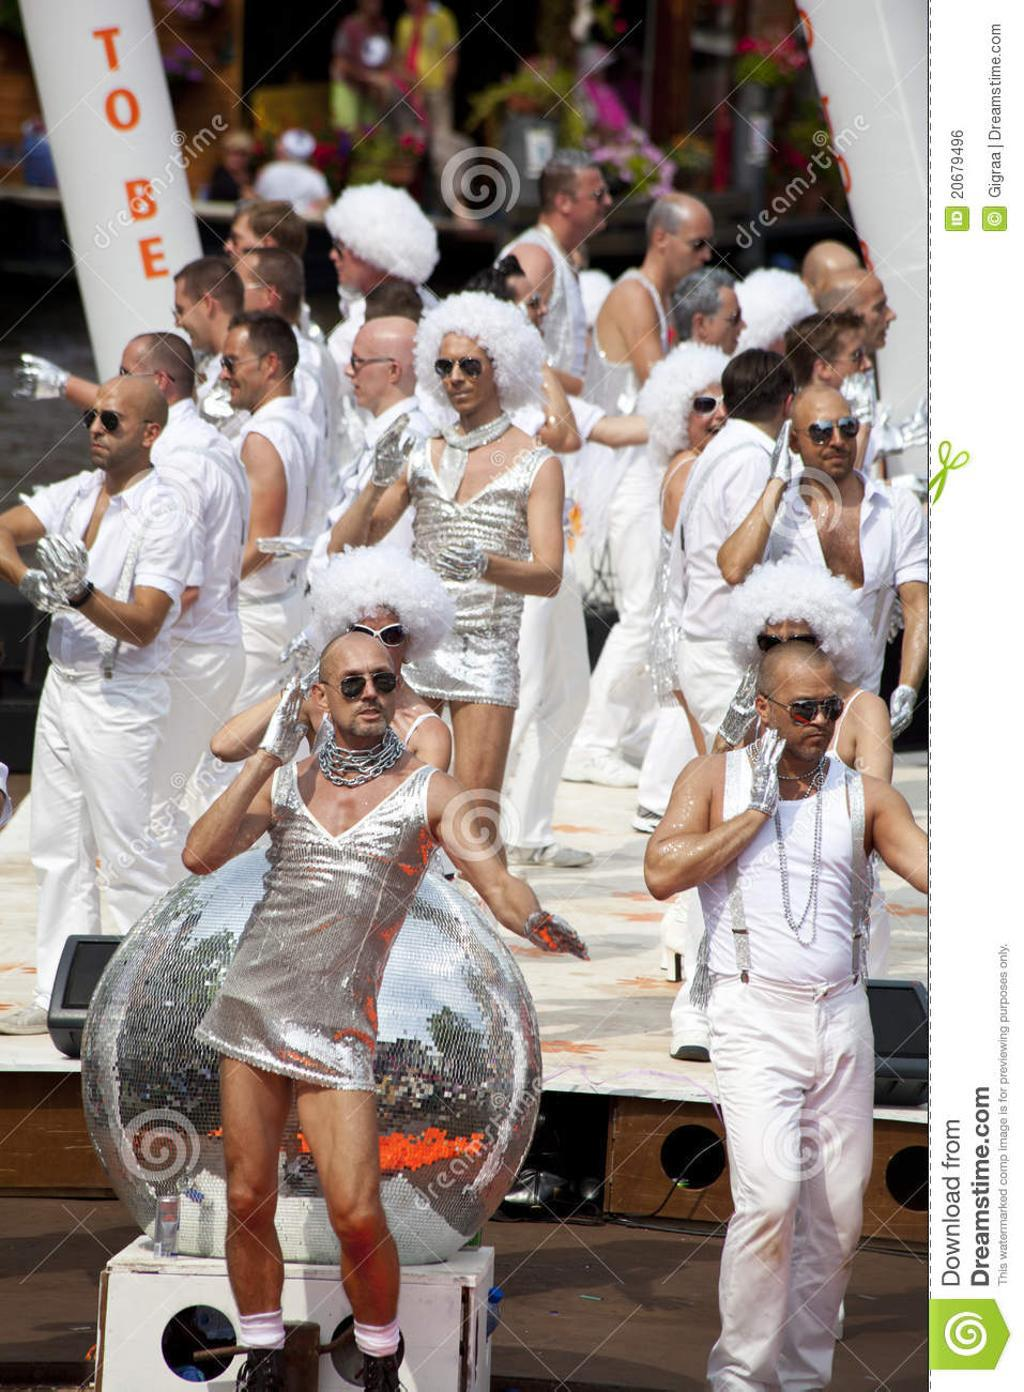face: (328, 654, 398, 736), (771, 680, 840, 759), (436, 339, 496, 413), (349, 610, 404, 686), (86, 395, 145, 465), (801, 405, 858, 478), (691, 375, 742, 453), (500, 283, 547, 352), (667, 214, 713, 282), (220, 341, 267, 405), (332, 229, 383, 289), (346, 344, 392, 405), (852, 290, 897, 350), (119, 355, 159, 418), (173, 287, 216, 345), (831, 336, 871, 398), (228, 268, 265, 334), (568, 179, 612, 230), (706, 297, 744, 356), (224, 227, 263, 282), (227, 141, 248, 172)
